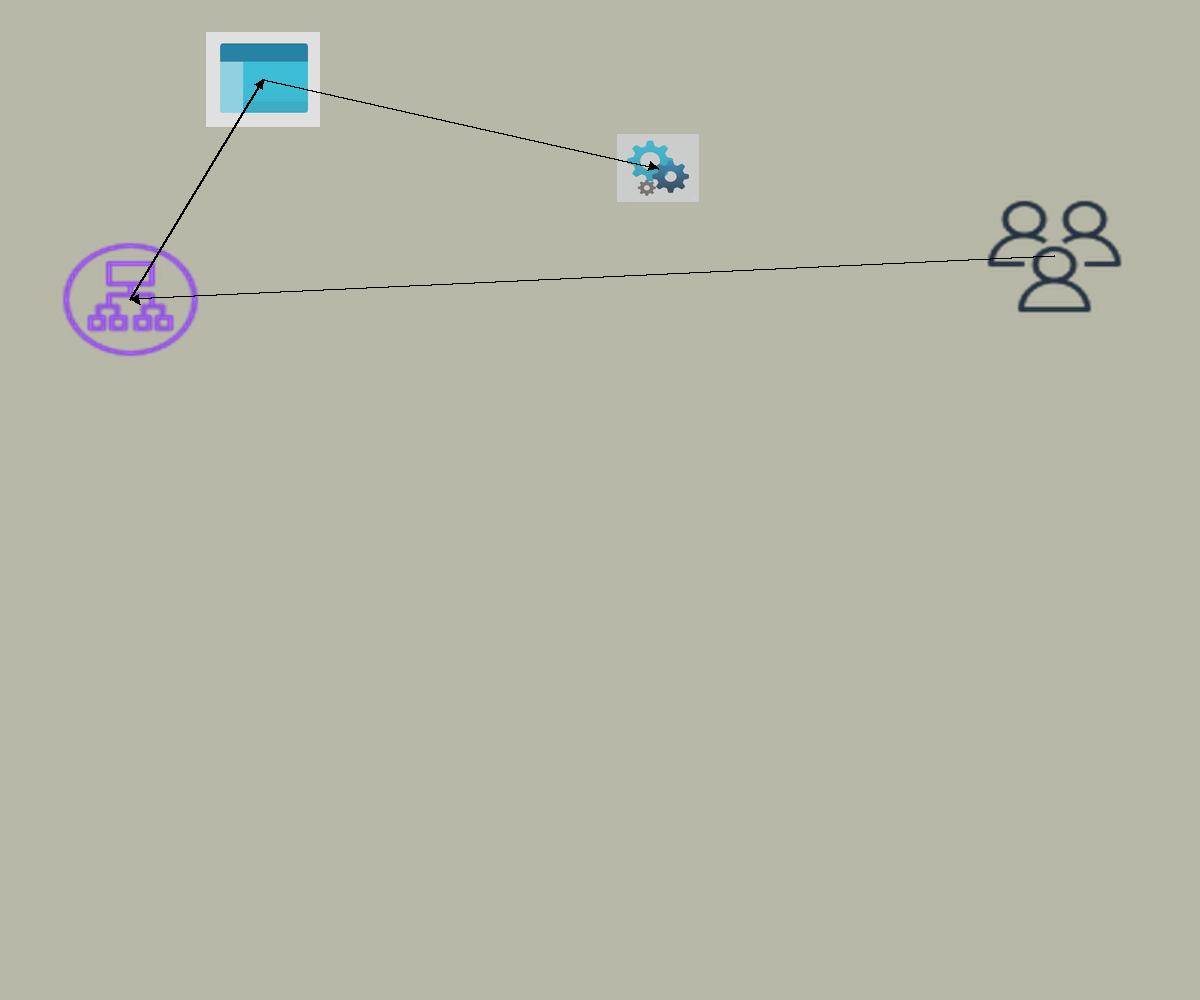AWS-Res_Elastic-Load-Balancing_Application-Load-Balancer: (57, 238, 204, 361)
AWS-Res_Users: (982, 196, 1127, 317)
Azure_api: (617, 134, 699, 202)
Azure_management-portal: (206, 32, 320, 127)
